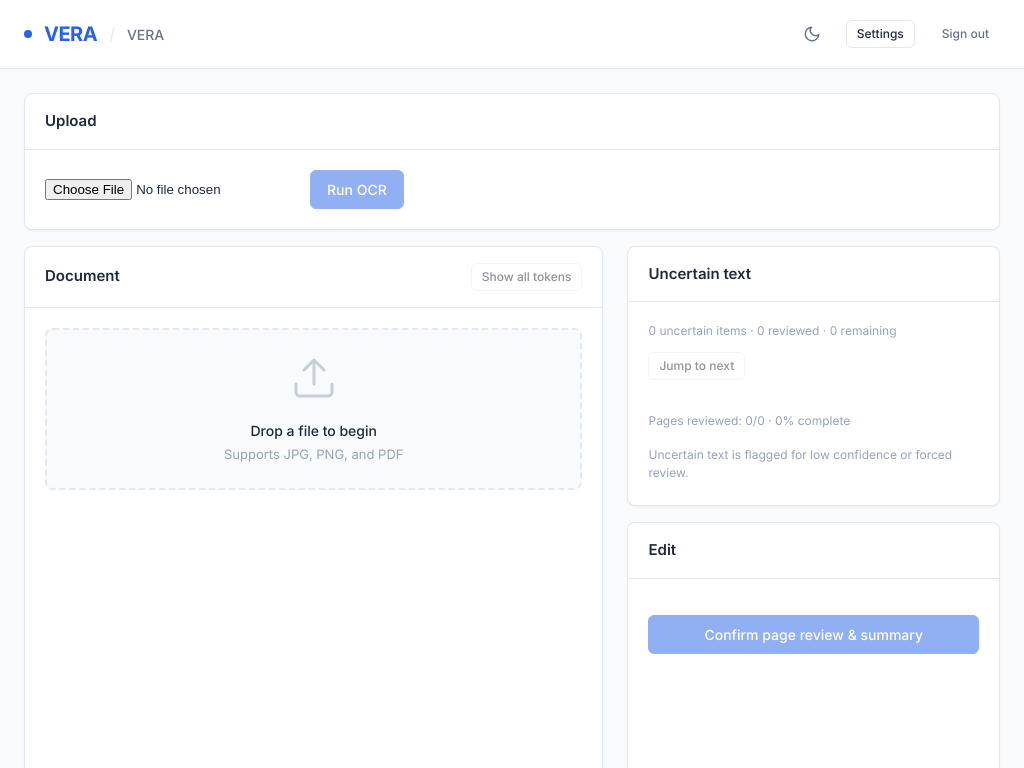
Test: Settings AI toggle › enables AI summaries toggle when Ollama is reachable
The image size is (1024, 768).
Click the button "Settings". click: (880,34)
box: [846, 20, 915, 48]
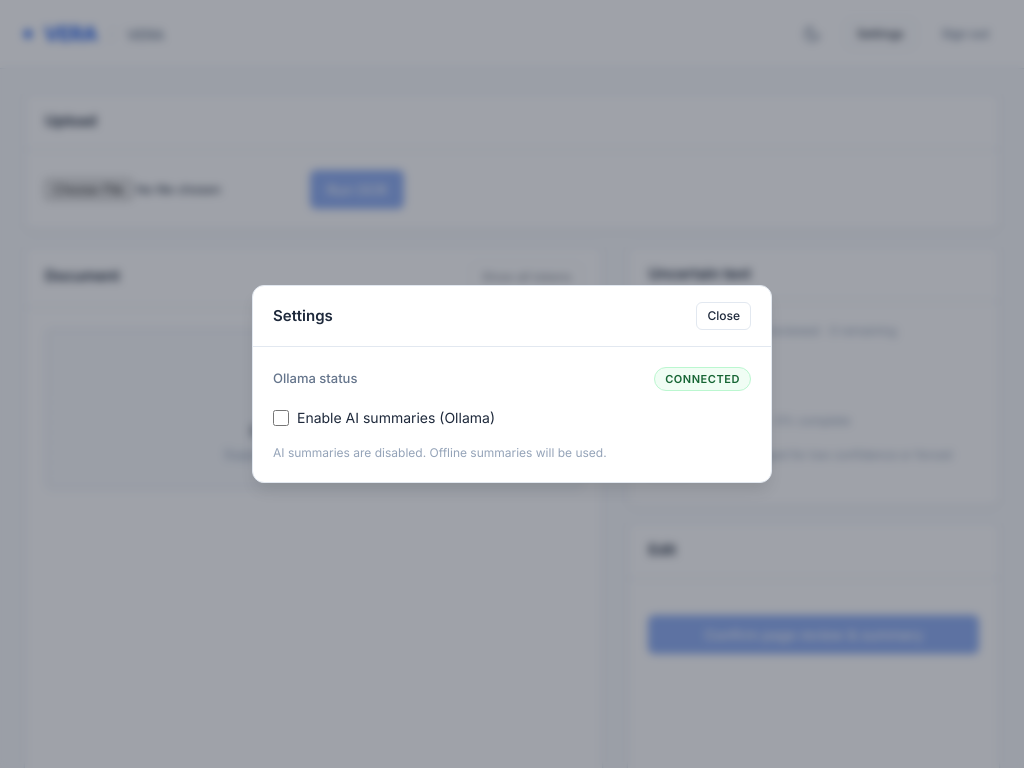
Result: the text "Connected" is shown at [654, 367, 751, 391]
Result: the checkbox labelled "Enable AI summaries (Ollama)" is enabled at [273, 410, 289, 426]
